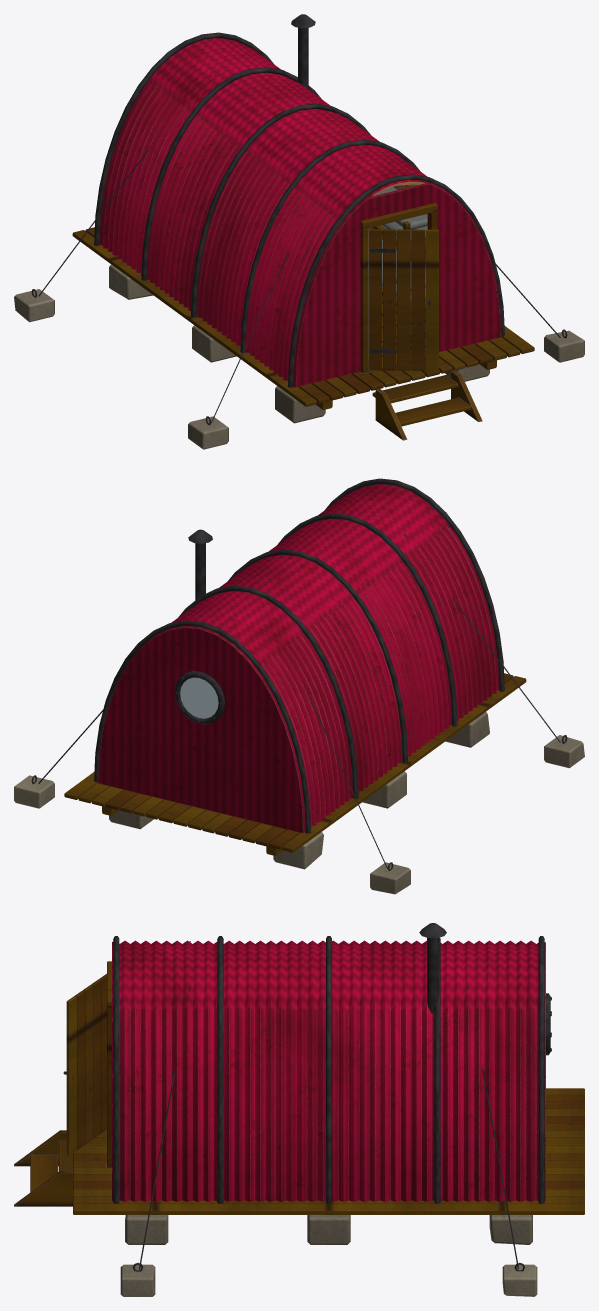
The model's file is BivaccoAlto.fbx.
3 views of the same model, one above another, from view 1: azimuth 30°, elevation 25°; view 2: azimuth 150°, elevation 25°; view 3: azimuth 270°, elevation 25° (orthographic). The views are drawn at different scales.
Visible parts, largest first — view 1: Bivacco_Lamiera, Bivacco_Legno, Bivacco_Ferro, Bivacco_Pietra, Bivacco_Brande; view 2: Bivacco_Lamiera, Bivacco_Ferro, Bivacco_Legno, Bivacco_Pietra, Bivacco_Vetro; view 3: Bivacco_Lamiera, Bivacco_Legno, Bivacco_Ferro, Bivacco_Pietra.
Boxes of the visible parts, <box> form: Bivacco_Lamiera: <box>99,38,501,387</box>; Bivacco_Legno: <box>72,203,534,440</box>; Bivacco_Ferro: <box>31,14,567,425</box>; Bivacco_Pietra: <box>14,264,584,449</box>; Bivacco_Brande: <box>375,187,427,304</box>; Bivacco_Lamiera: <box>98,484,499,833</box>; Bivacco_Ferro: <box>31,478,567,870</box>; Bivacco_Legno: <box>64,673,526,855</box>; Bivacco_Pietra: <box>14,712,584,894</box>; Bivacco_Vetro: <box>180,677,218,718</box>; Bivacco_Lamiera: <box>112,940,545,1201</box>; Bivacco_Legno: <box>14,961,584,1214</box>; Bivacco_Ferro: <box>63,923,551,1271</box>; Bivacco_Pietra: <box>120,1215,537,1296</box>.
Bounding box in the file's own units: 560 × 379 × 658.
